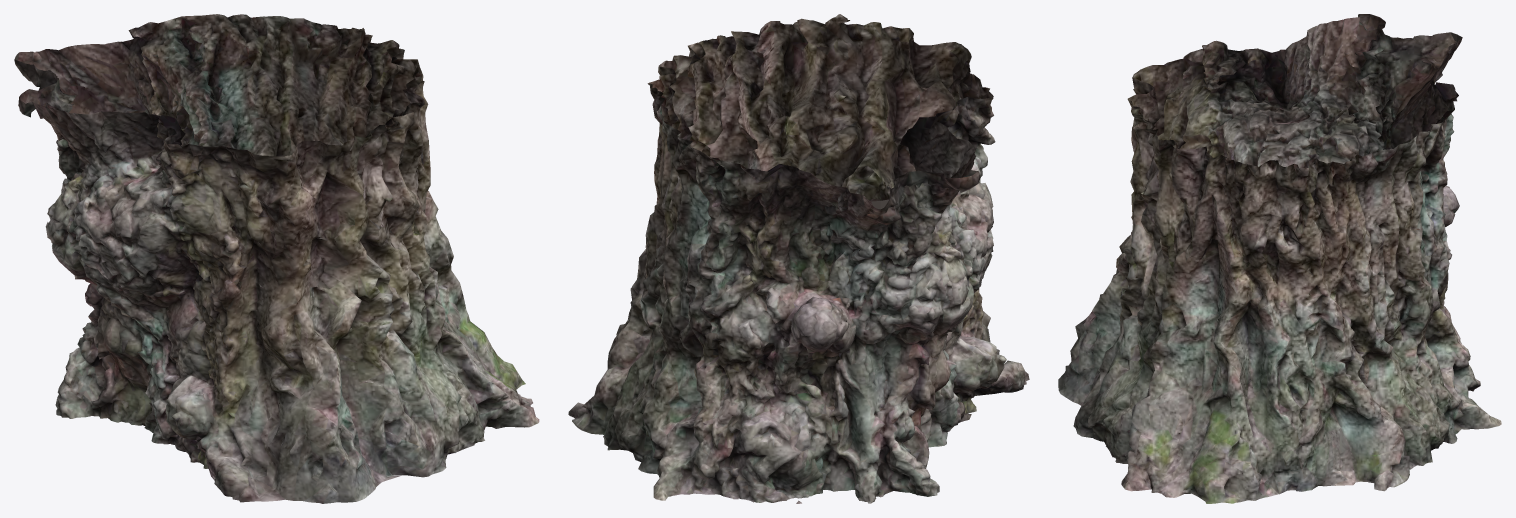
File: arbo_new_forest_fir_tree.glb
3 renders of one model, left to right at view 1: azimuth 30°, elevation 25°; view 2: azimuth 150°, elevation 25°; view 3: azimuth 270°, elevation 25°, orthographic. The views are drawn at different scales.
Visible parts, largest first — view 1: Object_2; view 2: Object_2; view 3: Object_2.
Part boxes in pixels (x1,y1,x2,y2): Object_2: [14, 14, 539, 503]; Object_2: [568, 14, 1029, 503]; Object_2: [1058, 14, 1501, 503].
Bounding box in the file's own units: 18.89 × 14 × 18.51.
1 material, 1 textured.
